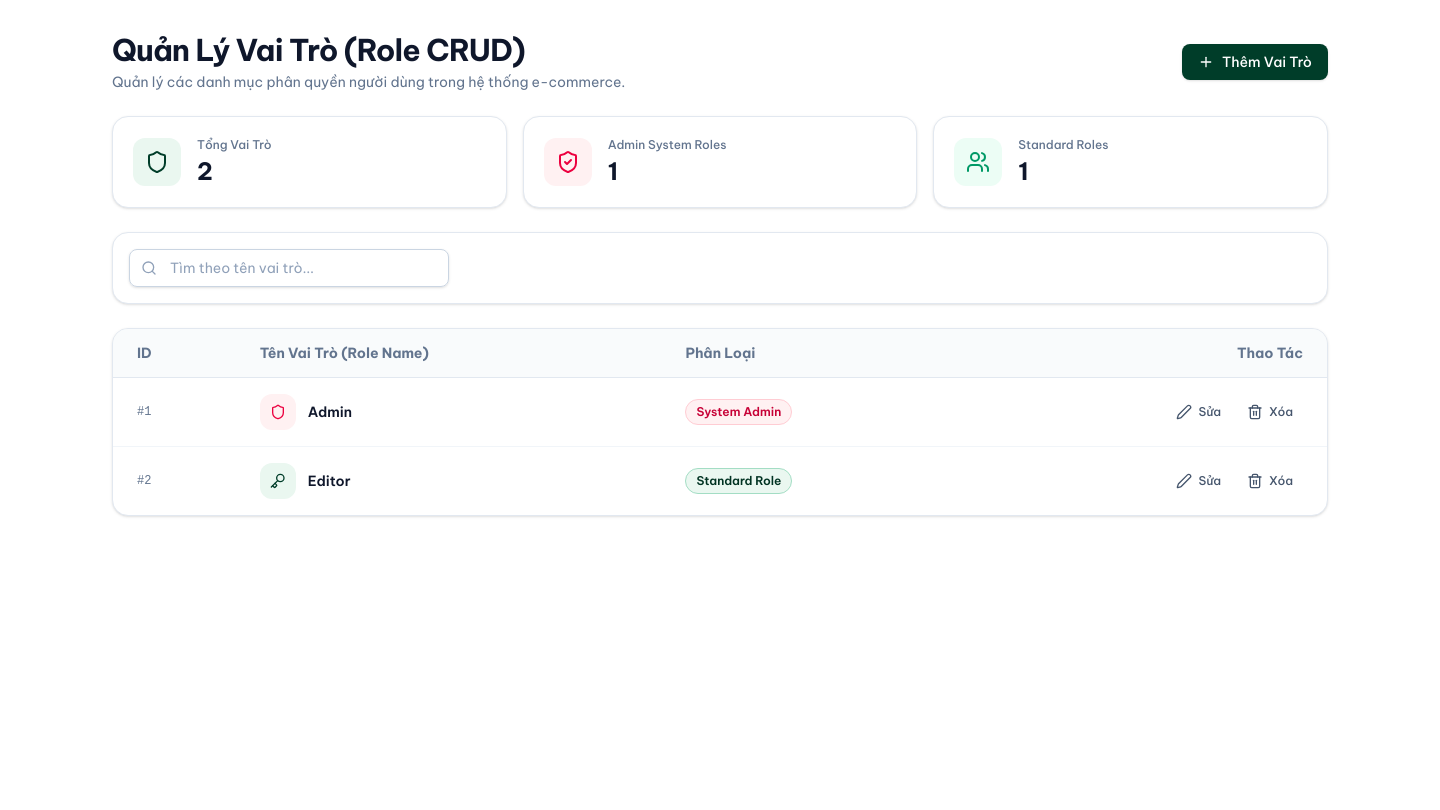
Test case: RolesPage › deletes a role via the confirmation modal
The image size is (1440, 810).
Click the button titled "Xóa" in the row of "System Admin".
click(1270, 412)  # box [1237,398,1303,426]
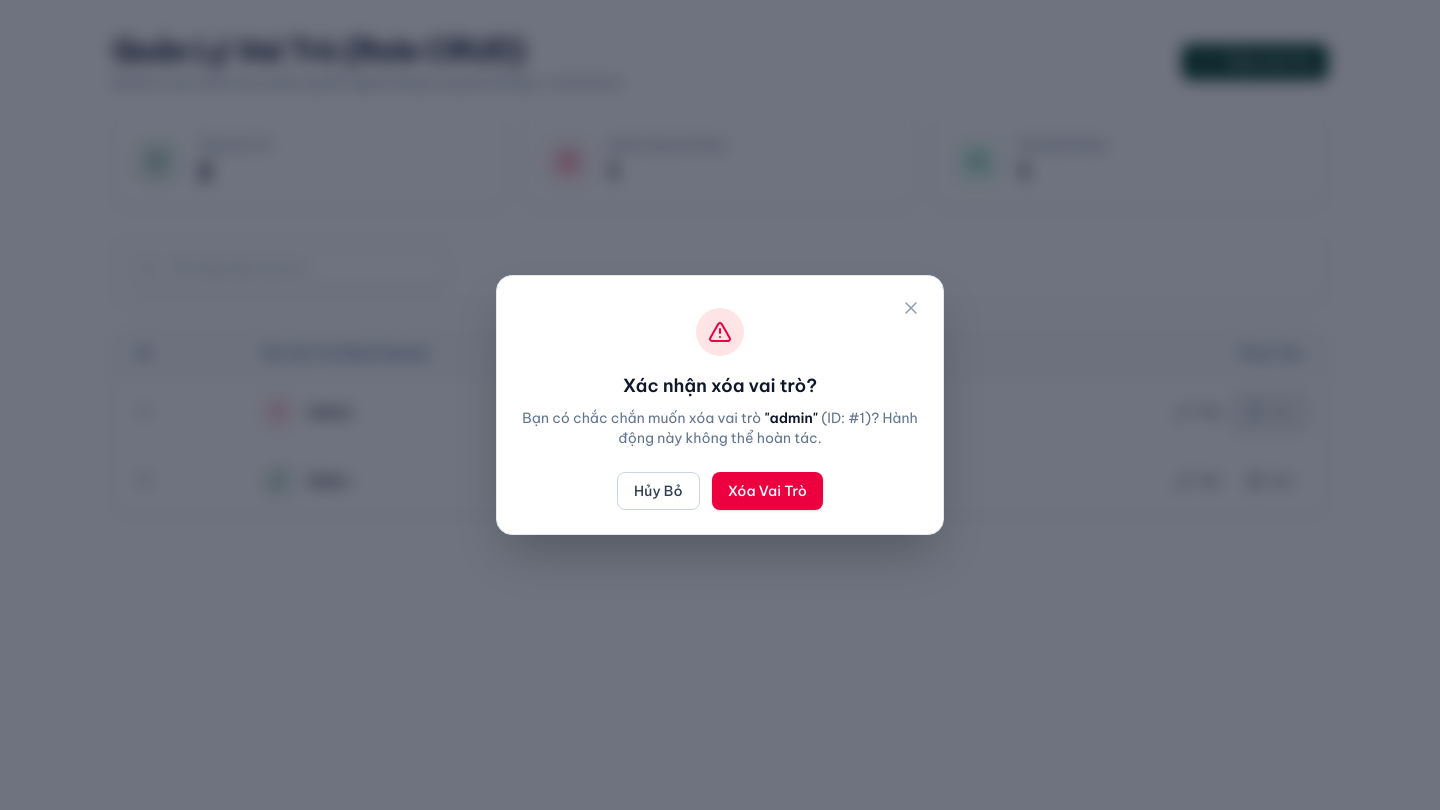
Click the button "Xóa Vai Trò".
click(767, 491)  # box [712,472,823,510]
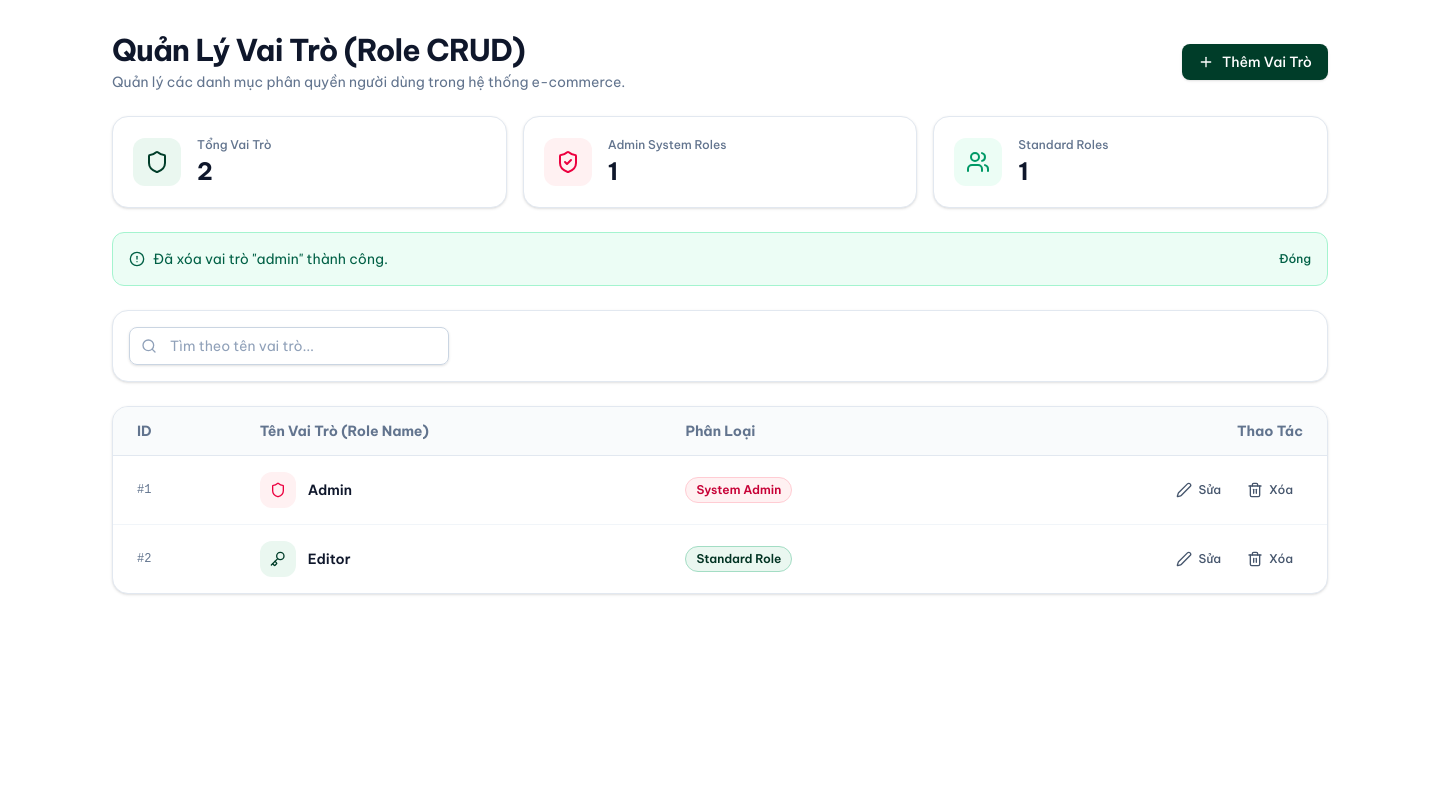
Expected: the text "Đã xóa vai trò \"admin\" thành công." is shown, [153,249,388,269]
